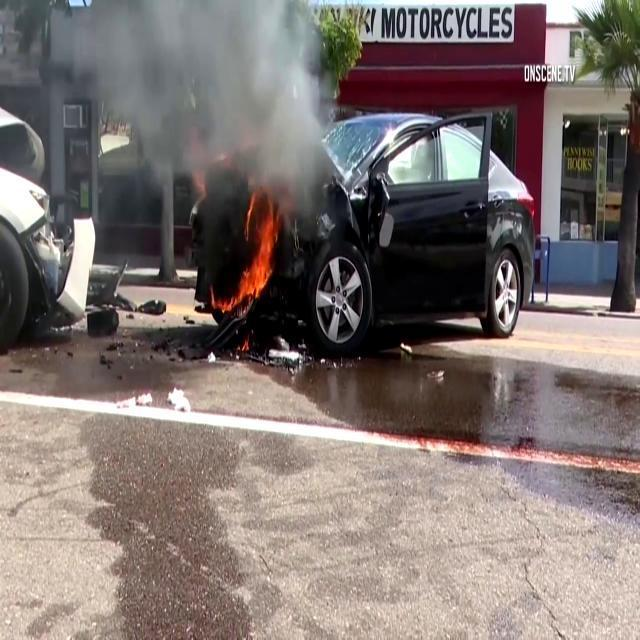Fire: (220, 208, 278, 321)
Smoke: (20, 0, 348, 240)
